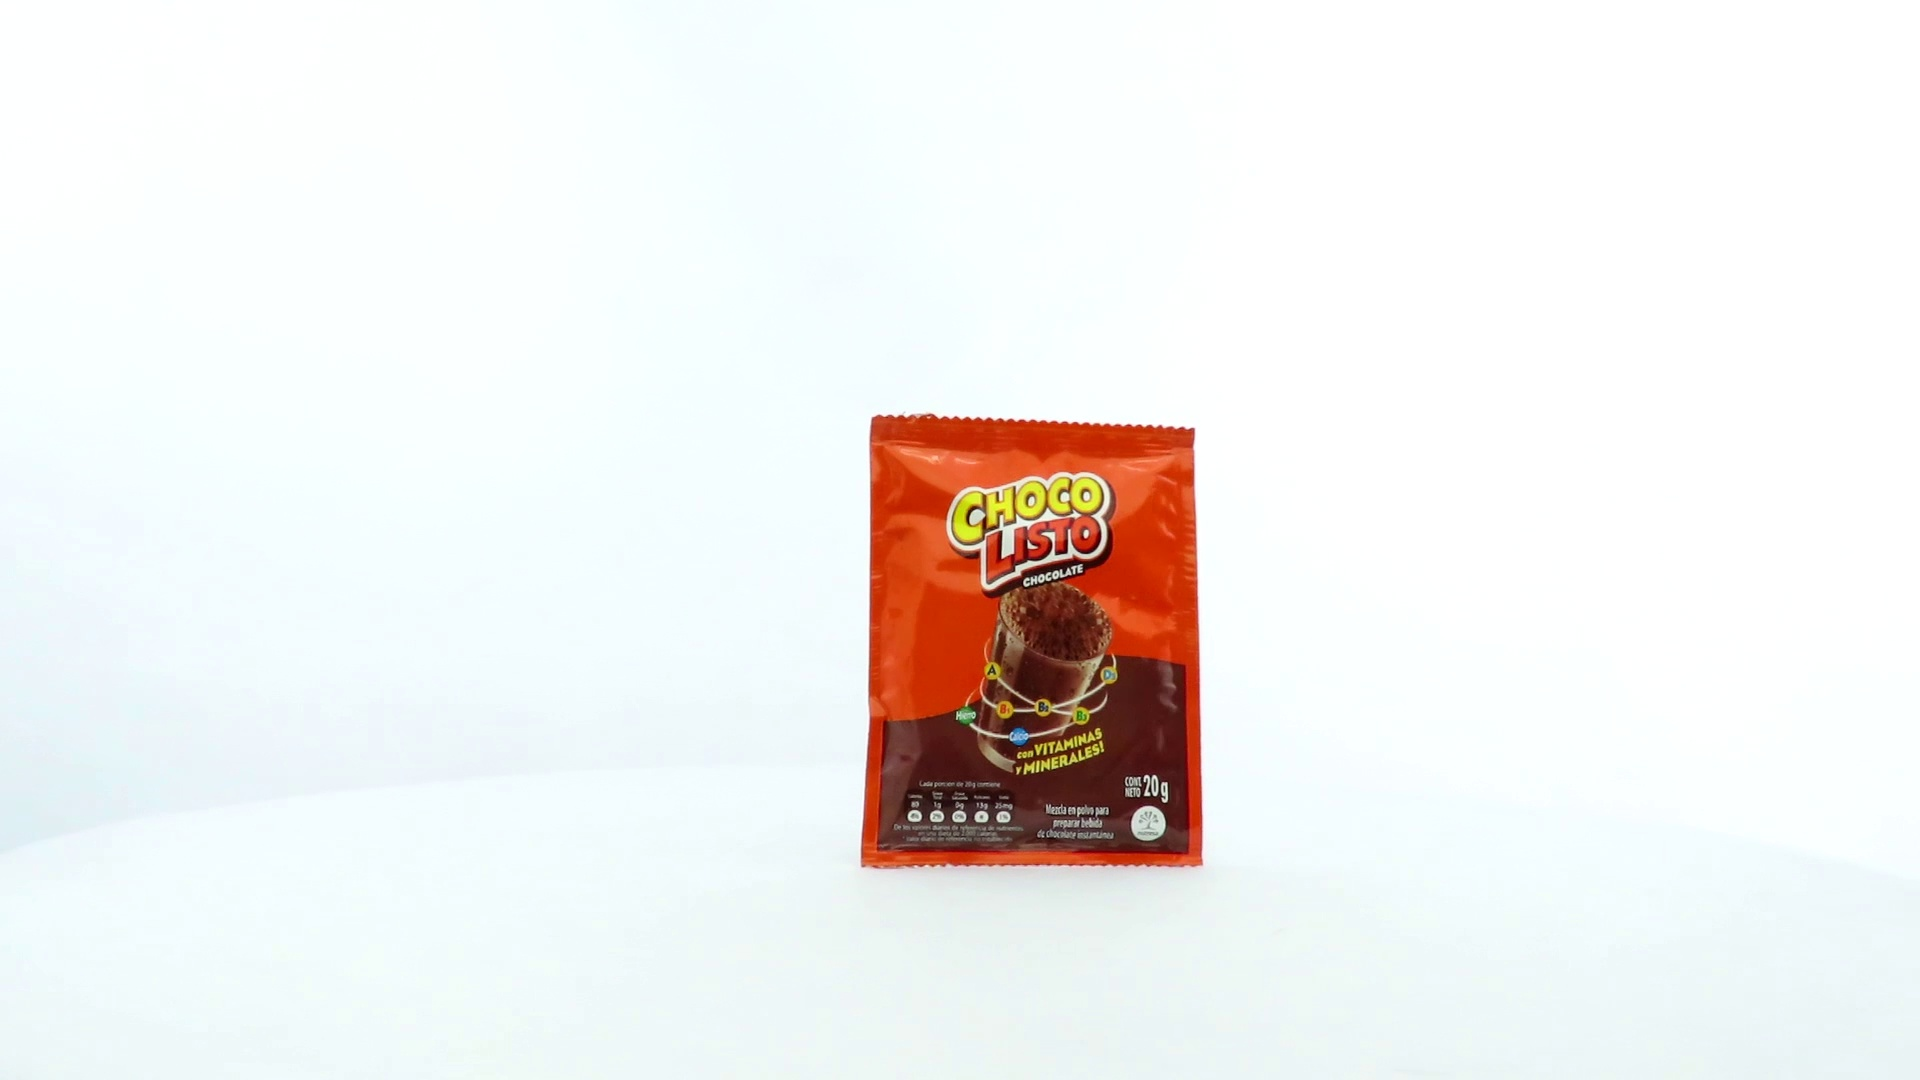COL0170103SOB02000: (855, 407, 1209, 876)
